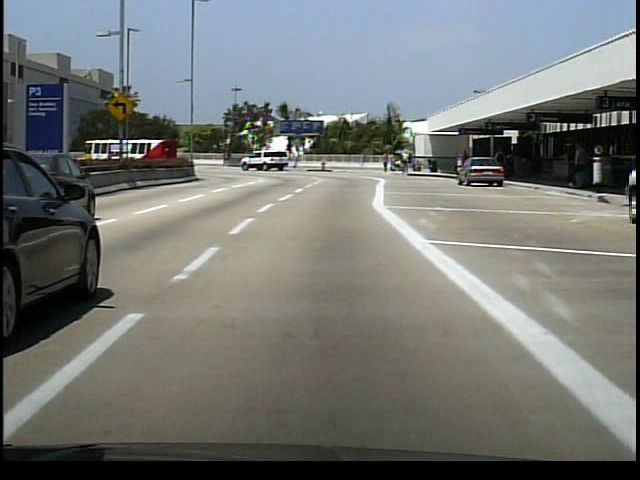person: (570, 138, 592, 193), (493, 145, 510, 184), (401, 147, 411, 176), (382, 149, 391, 173), (388, 151, 396, 175)
